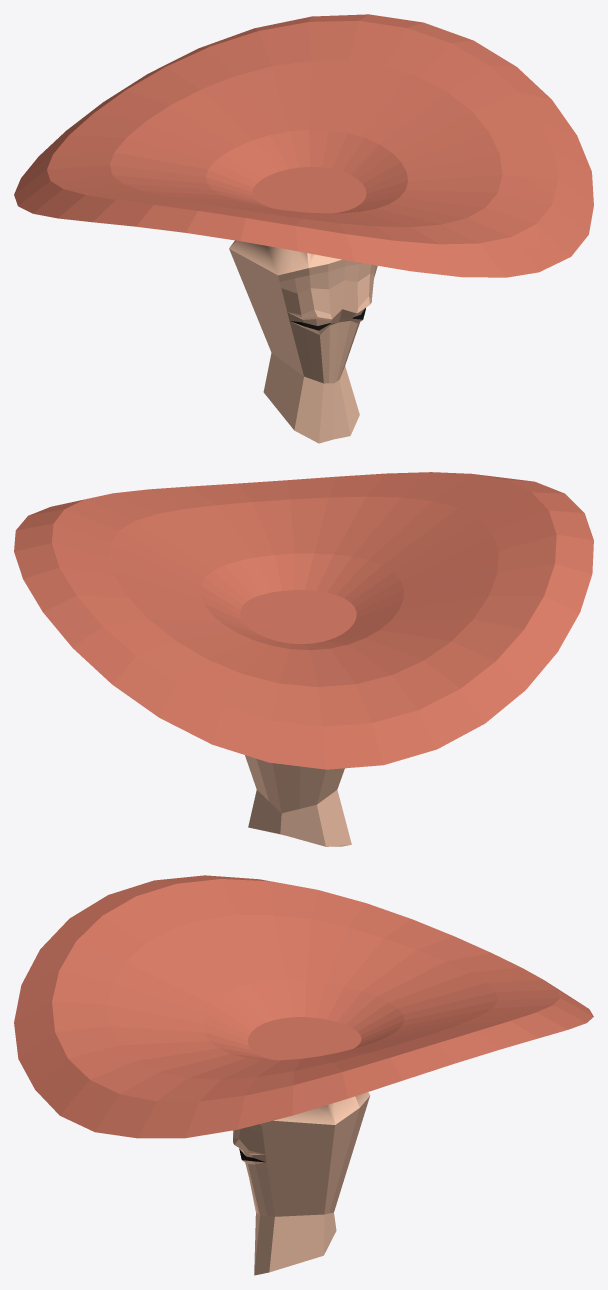
Rendered from Mushroom_head_01.fbx.
3 views of the same model, one above another, from view 1: azimuth 30°, elevation 25°; view 2: azimuth 150°, elevation 25°; view 3: azimuth 270°, elevation 25° (orthographic). The views are drawn at different scales.
Visible parts, largest first — view 1: Mushroom_Head_01; view 2: Mushroom_Head_01; view 3: Mushroom_Head_01.
Boxes of the visible parts, bbox=[...] form: Mushroom_Head_01: bbox=[14, 14, 593, 443]; Mushroom_Head_01: bbox=[14, 472, 593, 846]; Mushroom_Head_01: bbox=[14, 875, 593, 1275].
Size of the model in its own units: 92.18 by 55.81 by 96.45.
